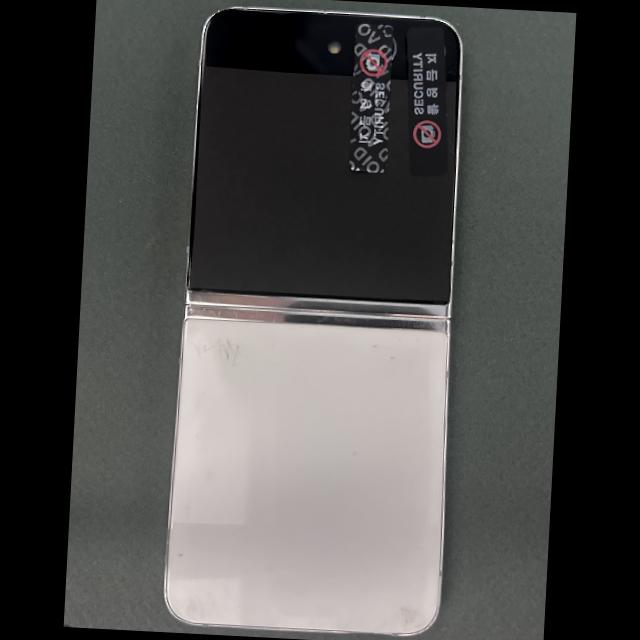lens: (392, 36, 397, 61)
phone: (165, 8, 460, 634)
sticker: (349, 23, 393, 173), (406, 28, 447, 177)
